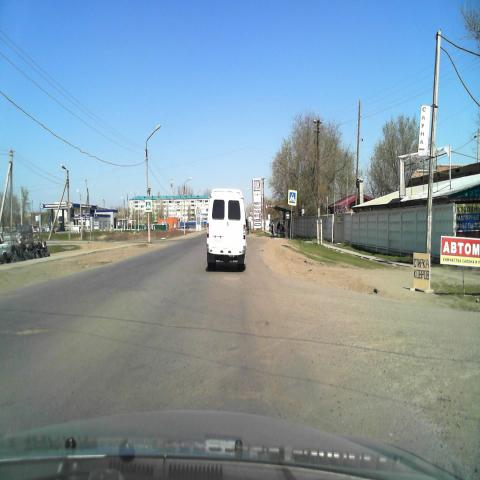5_19_1: (288, 190, 297, 207), (144, 199, 153, 213)
